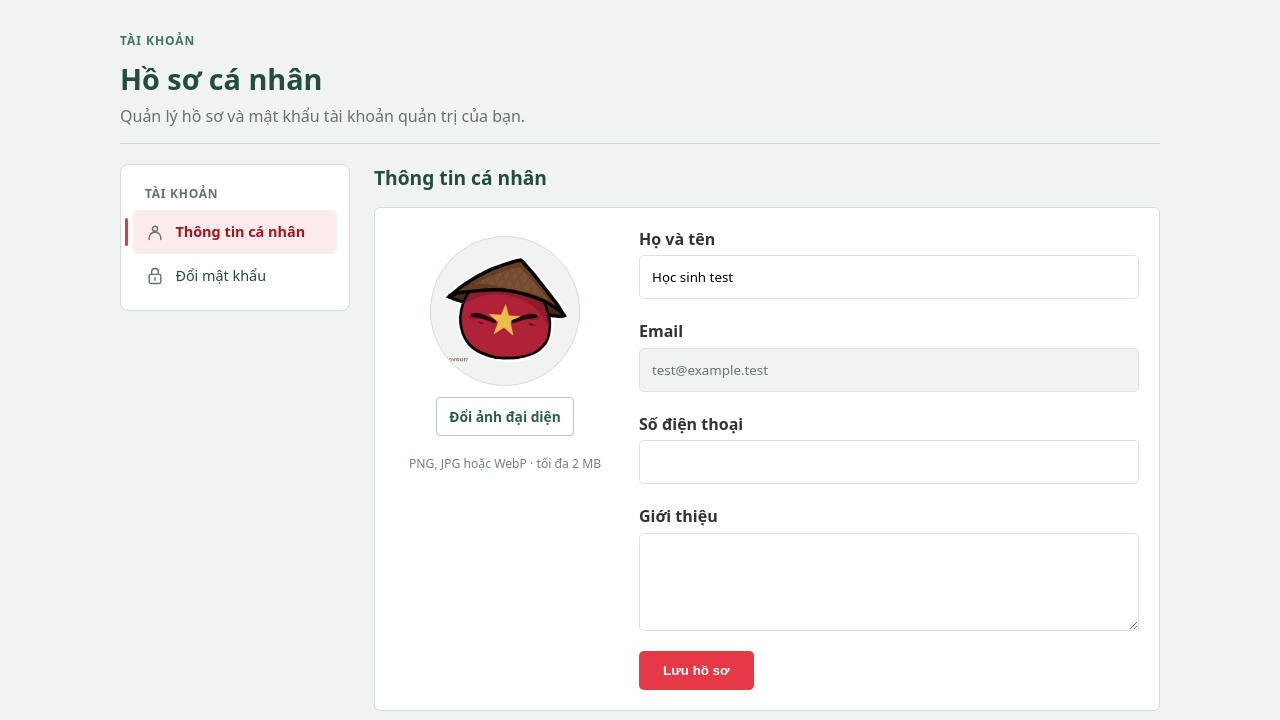
it: hồ sơ admin cho phép đổi mật khẩu và không hiện hạn chế cấu hình đã bỏ
Click the button "Đổi mật khẩu".
click(235, 276)  # box top-left (133, 254), bottom-right (337, 298)
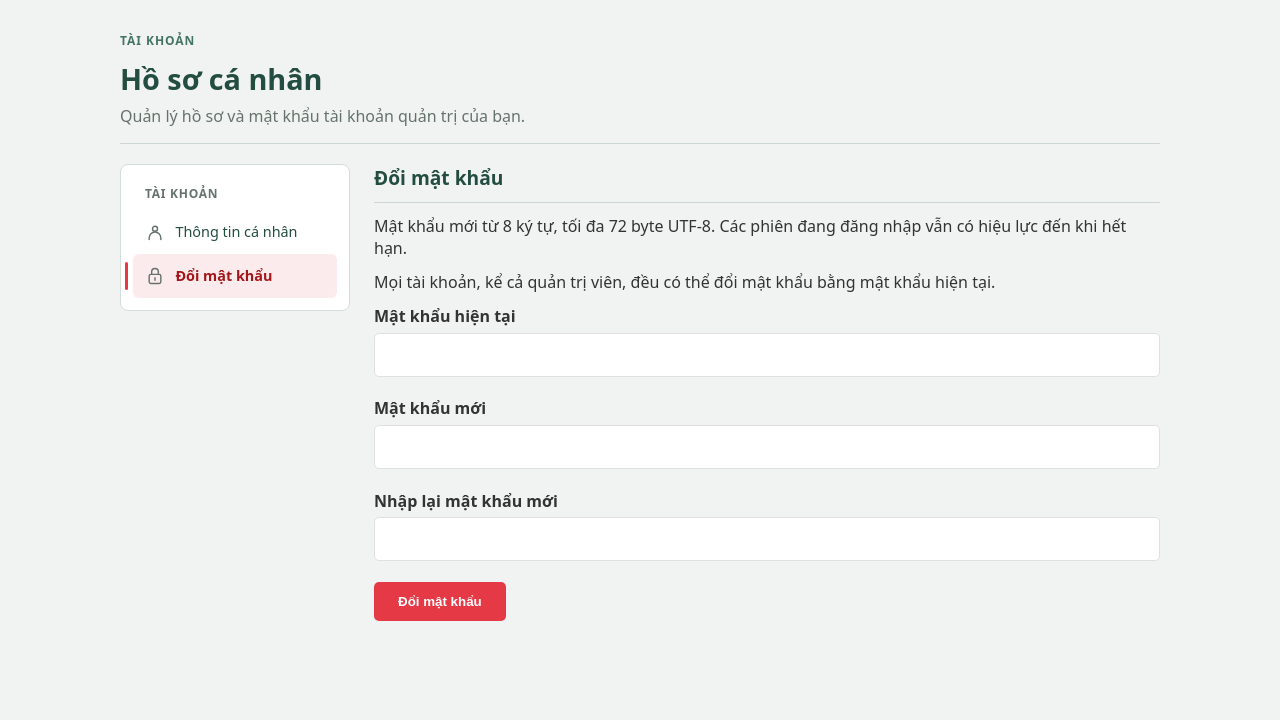
Check: the text "Mọi tài khoản, kể cả quản trị viên, đều có thể đổi mật khẩu" is shown, box top-left (374, 271), bottom-right (995, 293)
Check: the form named "Đổi mật khẩu" is shown, box top-left (374, 305), bottom-right (1160, 621)
